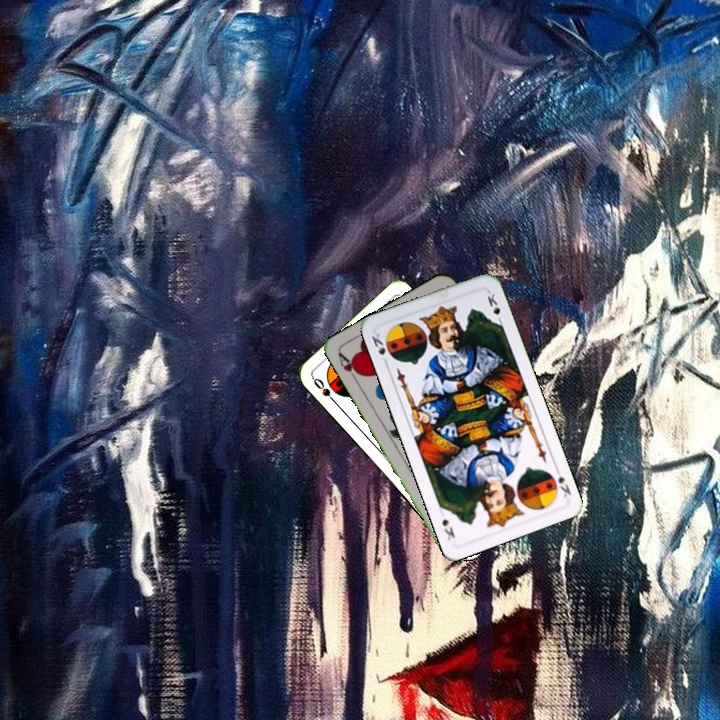HA: (334, 349, 365, 386)
SK: (368, 329, 390, 368), (551, 463, 574, 500)
SO: (309, 374, 340, 407)
